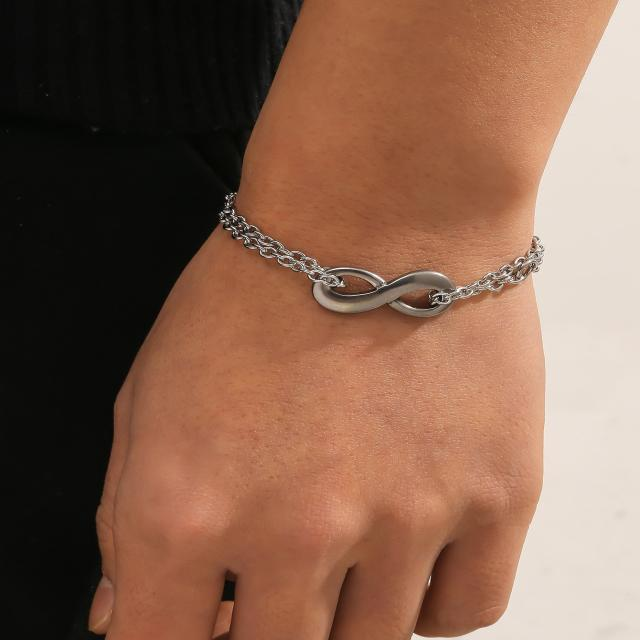Nail: (90, 576, 112, 630)
